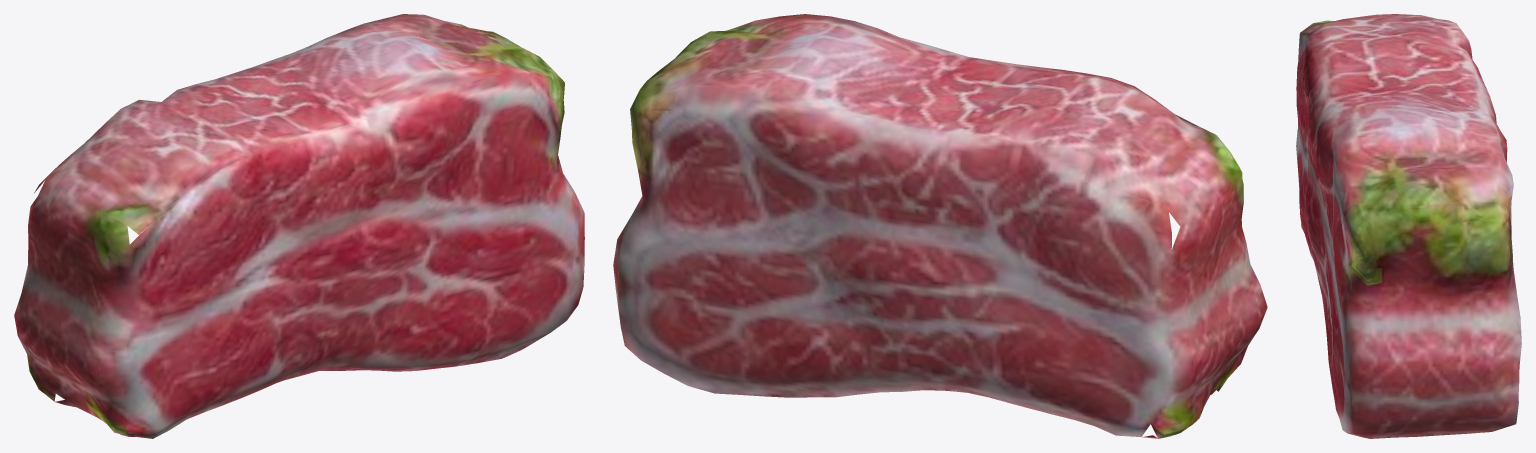
The model's file is meat2_lo.glb.
3 renders of one model, left to right at view 1: azimuth 30°, elevation 25°; view 2: azimuth 150°, elevation 25°; view 3: azimuth 270°, elevation 25°, orthographic. The views are drawn at different scales.
Parts seen in each view (by area): view 1: merged; view 2: merged; view 3: merged.
Part boxes in pixels (bbox=[...]): merged: bbox=[14, 14, 584, 438]; merged: bbox=[613, 14, 1267, 438]; merged: bbox=[1296, 14, 1521, 438].
Bounding box in the file's own units: 0.2335 × 0.1288 × 0.0947.
1 material, 1 textured.
